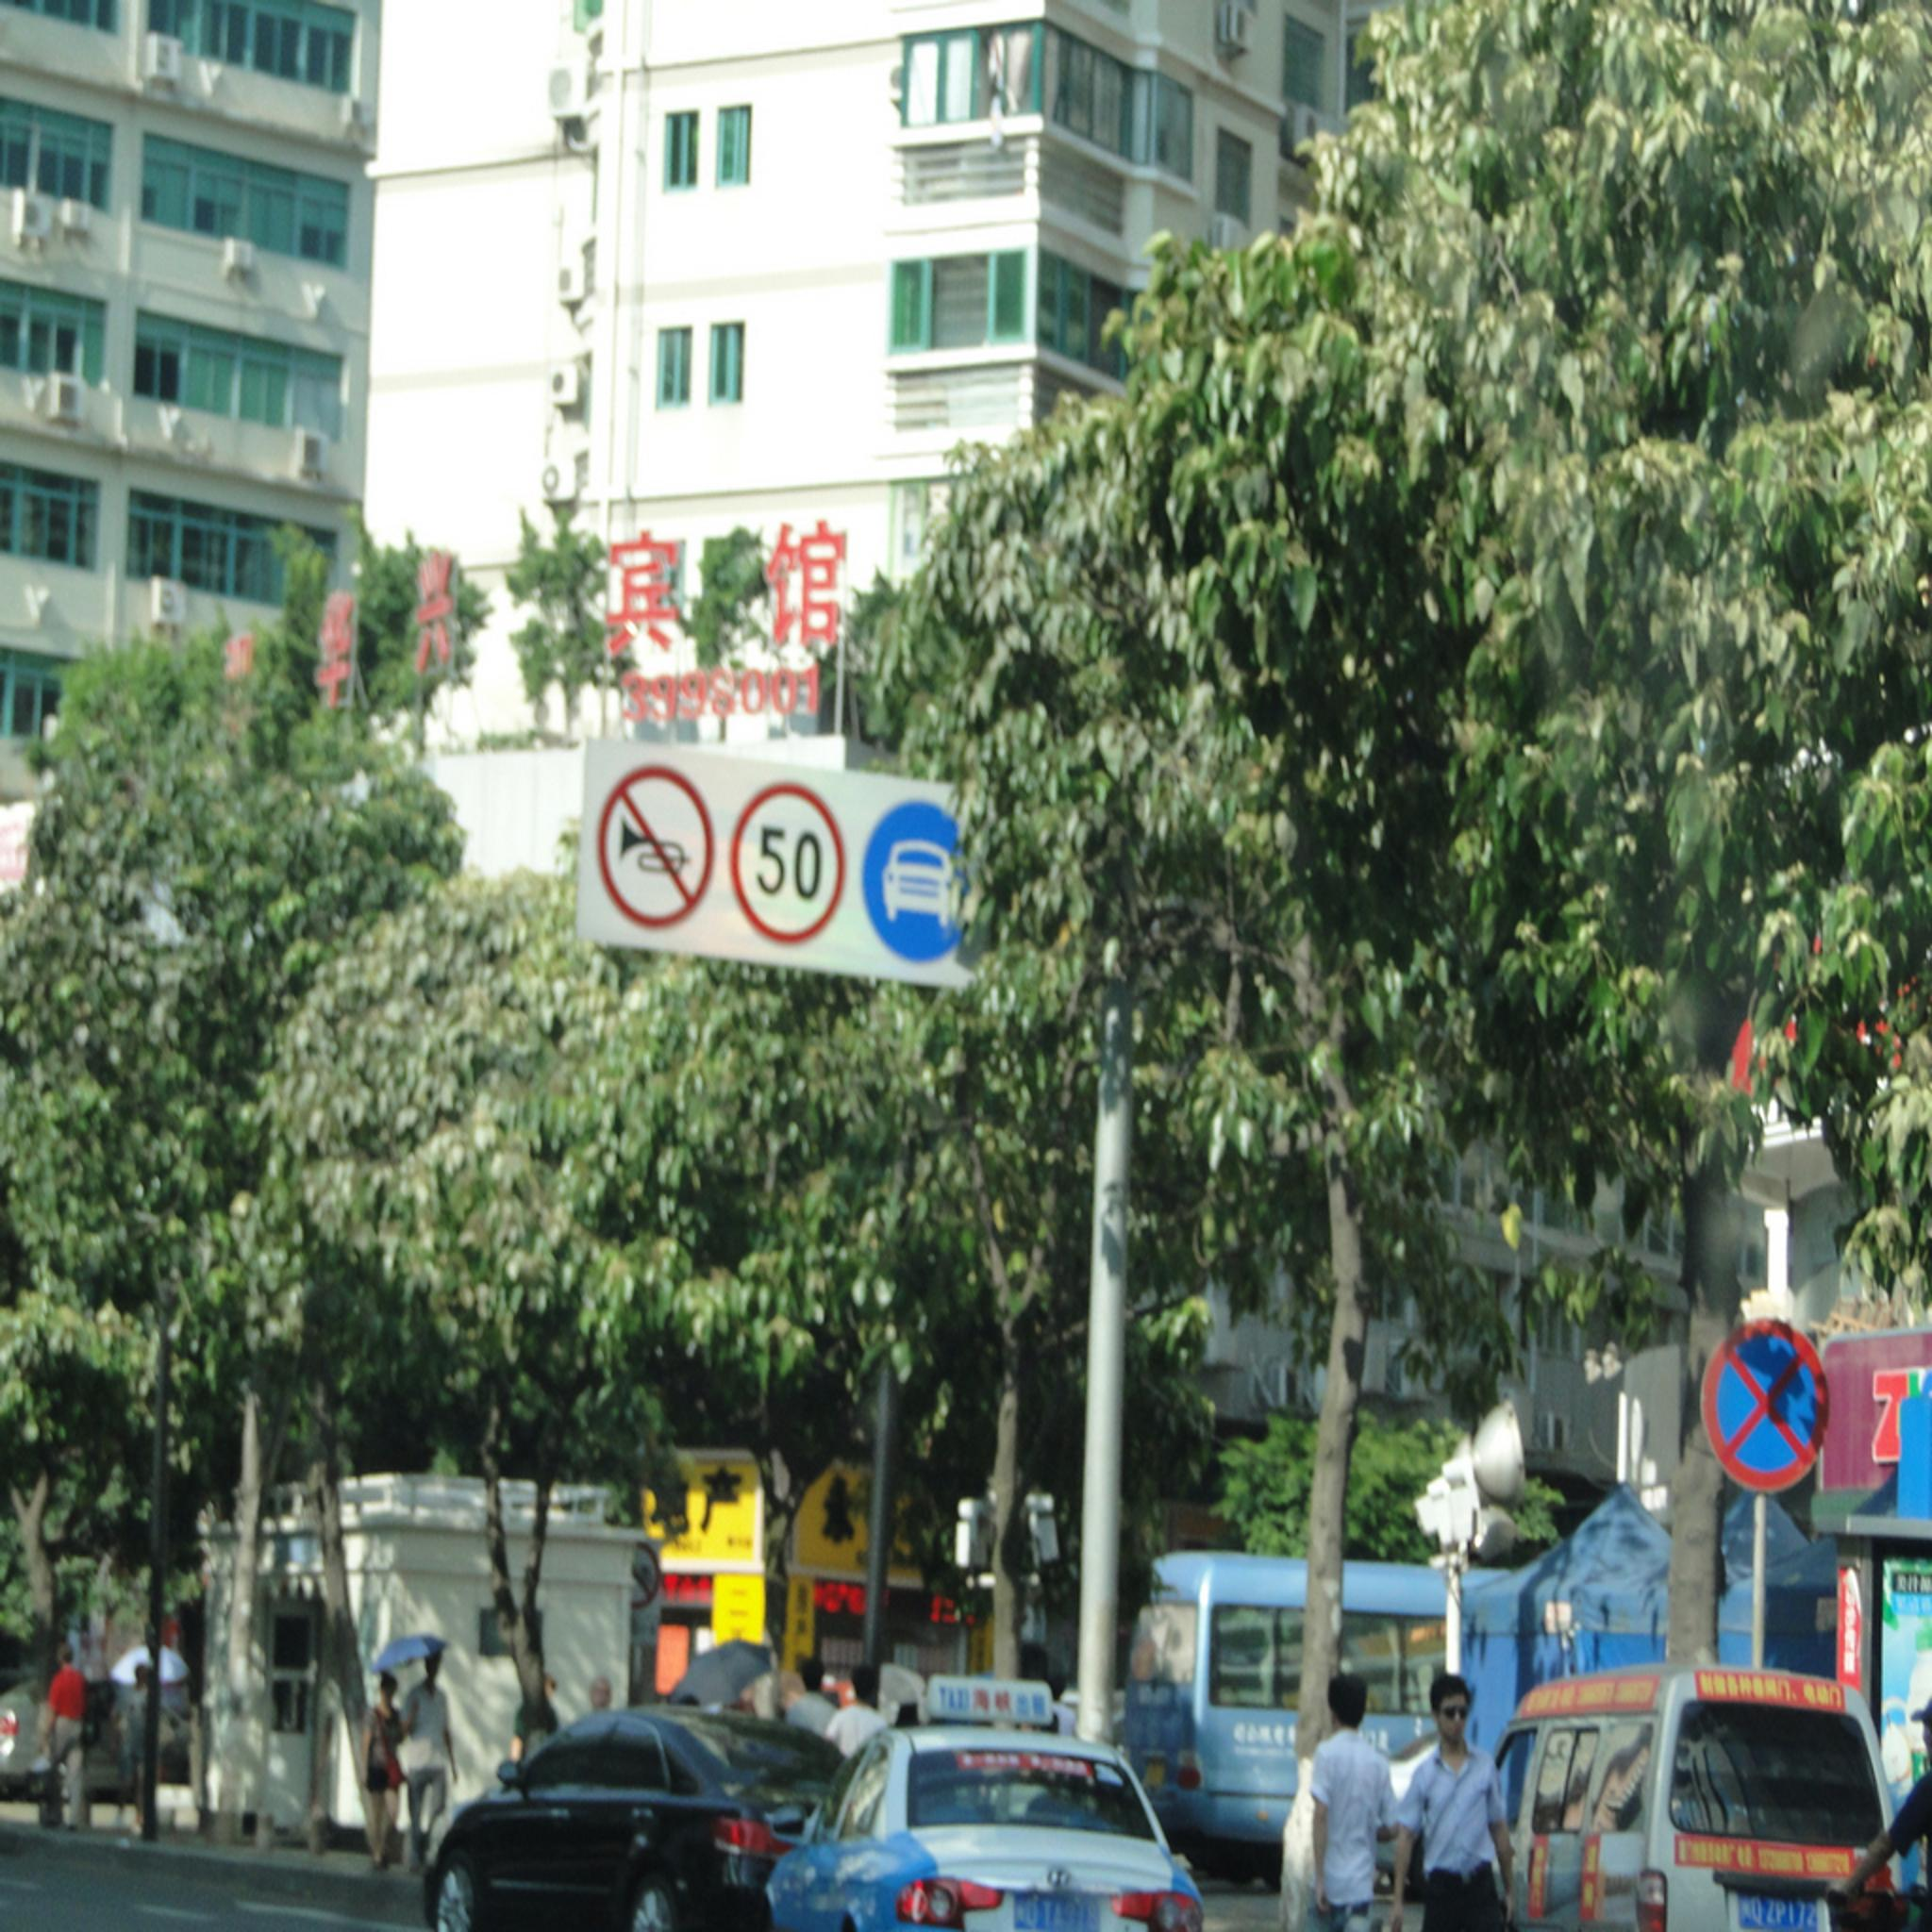i4: (874, 803, 987, 971)
p11: (600, 763, 709, 931)
pl50: (741, 782, 833, 927)
pn: (1707, 1318, 1836, 1488)
